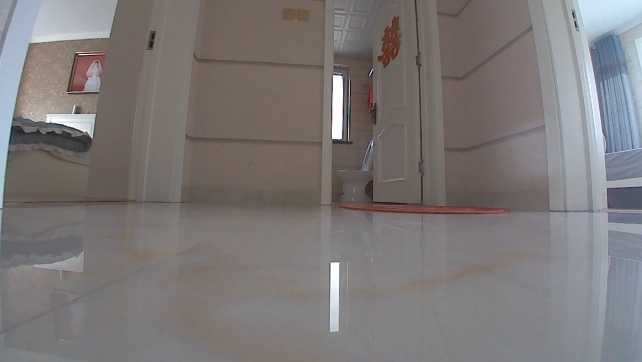bed: (3, 110, 95, 192)
blanket: (342, 202, 508, 215)
door_anno: (367, 1, 446, 205)
toilet: (339, 140, 377, 203)
